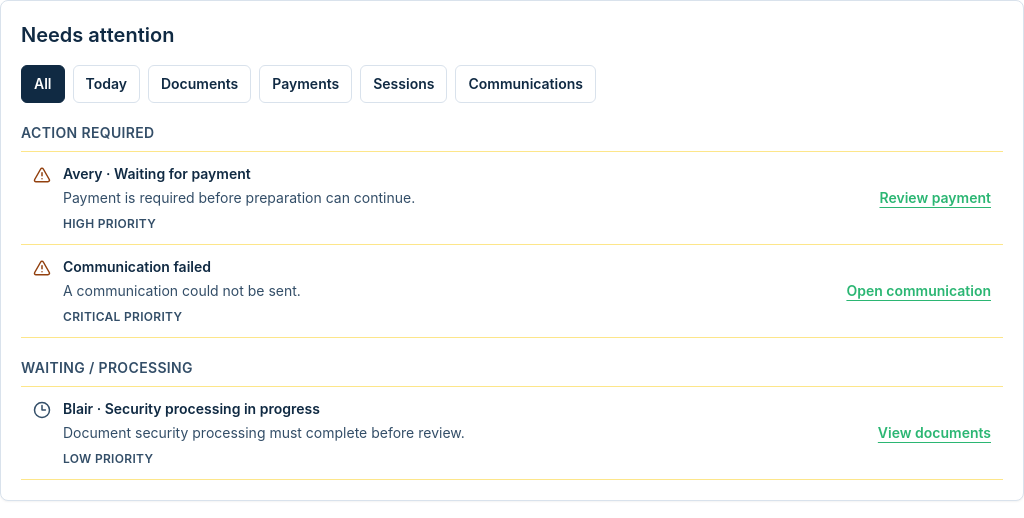
Test case: Mission Control attention panel › filters the already-loaded queue without a server request and has a safe empty state
Click the button "Documents" at point(200, 84), box [148, 65, 251, 103]
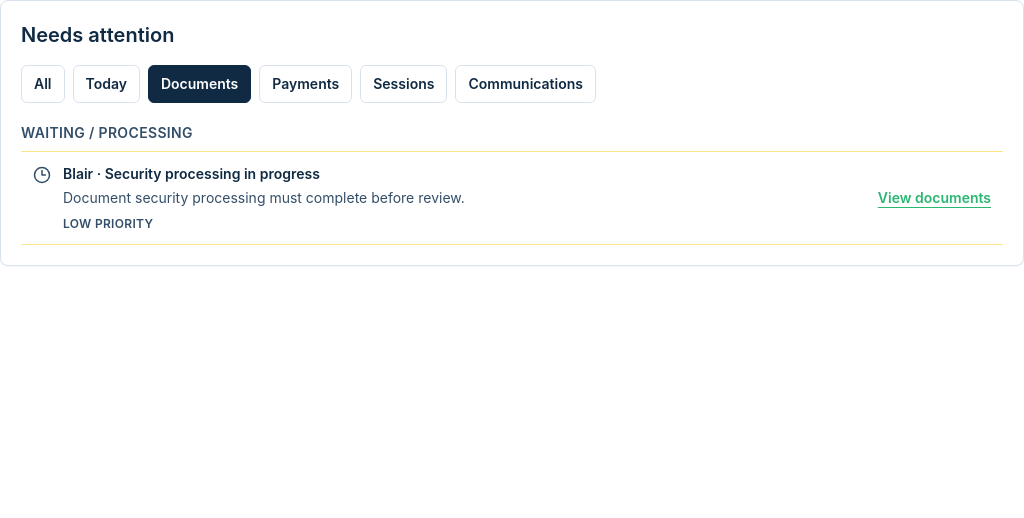
Expected: the text "Blair · Security processing in progress" is shown, [63, 165, 320, 182]
Expected: the text "Waiting for payment" is gone
Click the button "Today" at point(106, 84), box [72, 65, 140, 103]
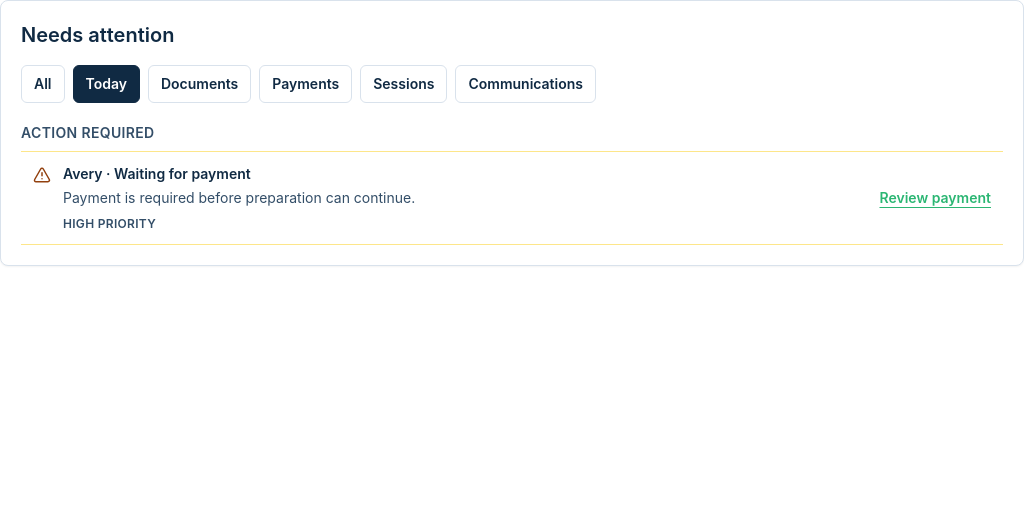
Expected: the text "Avery · Waiting for payment" is shown, [63, 165, 251, 182]
Expected: the text "Security processing in progress" is gone
Click the button "Sessions" at point(404, 84), box [360, 65, 447, 103]
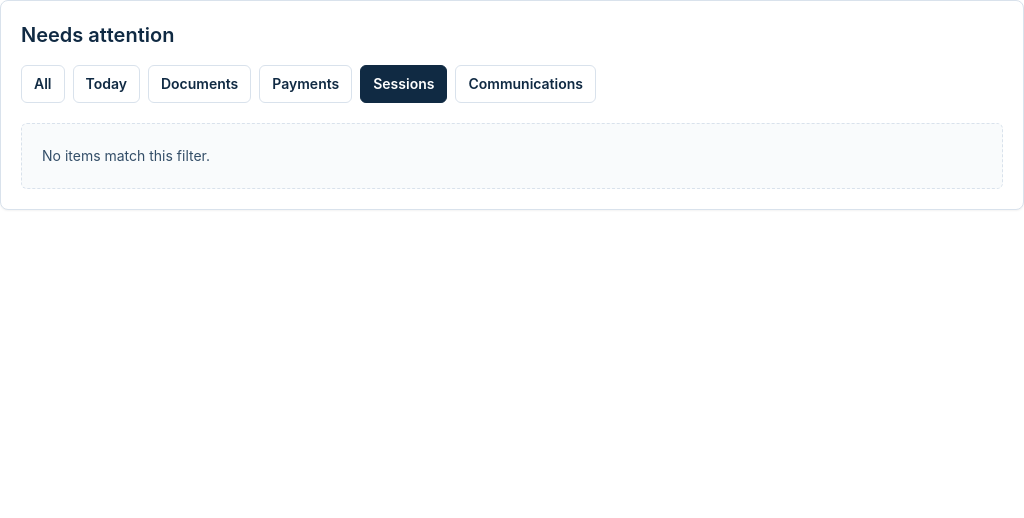
Expected: the text "No items match this filter." is shown, [21, 123, 1003, 189]
